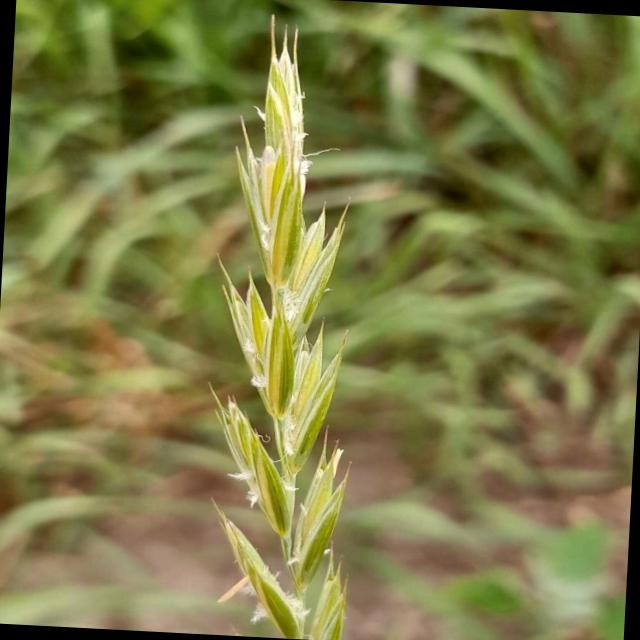Lolium: (192, 11, 382, 640)
